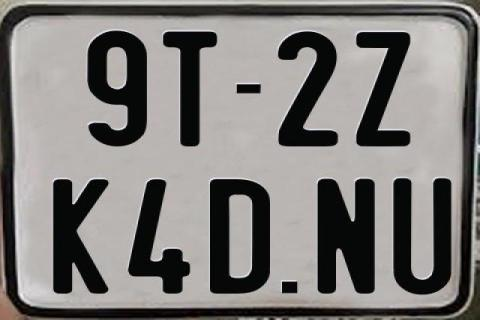0: (127, 177, 192, 293), (86, 31, 147, 150), (278, 29, 338, 145)
D: (207, 178, 268, 292)
K: (53, 180, 115, 298)
N: (314, 176, 375, 292)
T: (163, 30, 221, 148)
U: (392, 177, 452, 293)
Z: (353, 32, 411, 147)
